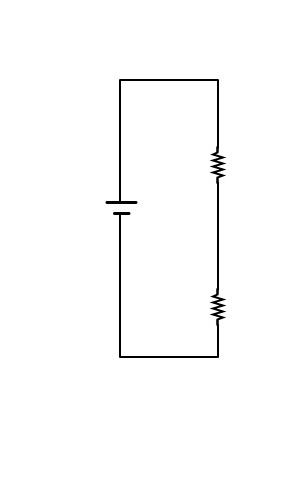resistor: (197, 270, 246, 341), (196, 138, 236, 188)
